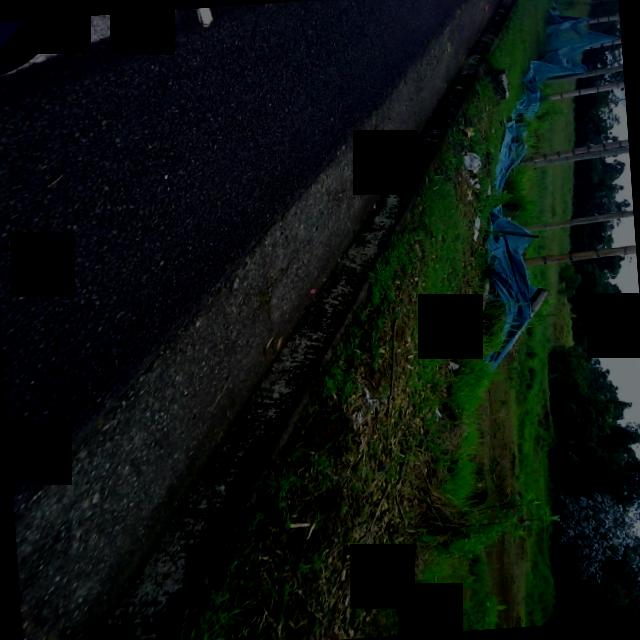DITCH: (0, 0, 606, 640), (0, 0, 567, 640)
